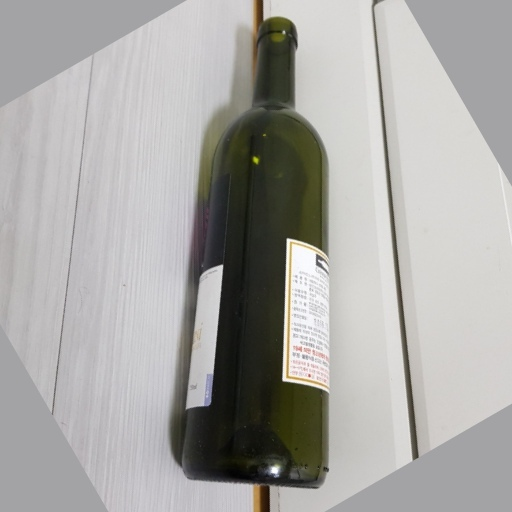Glass_2: (177, 18, 336, 492)
